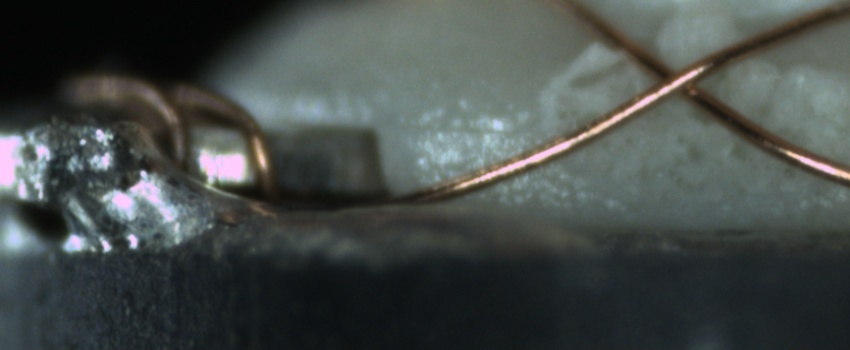CL: (628, 41, 722, 113)
DL: (411, 98, 530, 155)
TE: (55, 65, 288, 216)
